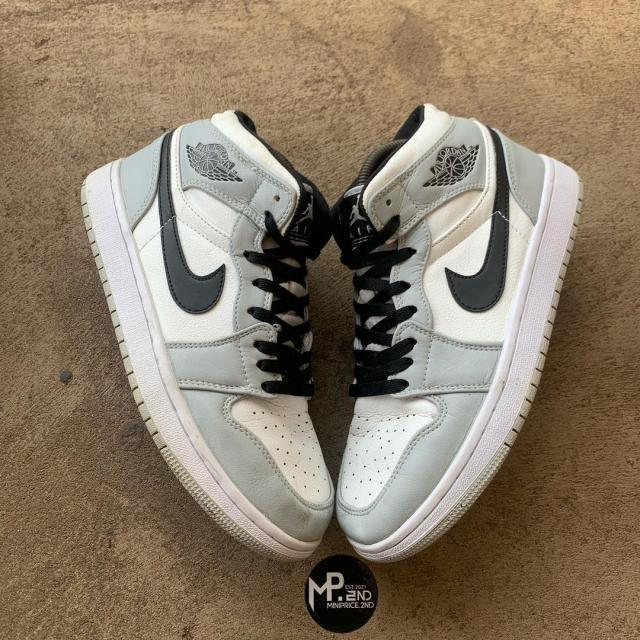nike fake jordan 1: (79, 111, 337, 563), (332, 115, 584, 566)
